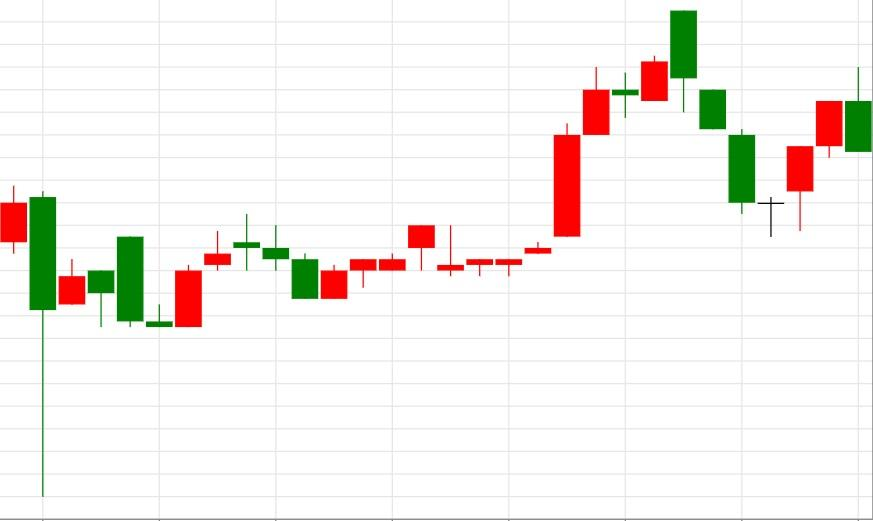bullish_engulfing_rise: (0, 185, 203, 497)
morning_star_rise: (670, 10, 814, 238)
three_black_crows_fall: (437, 10, 755, 276)
